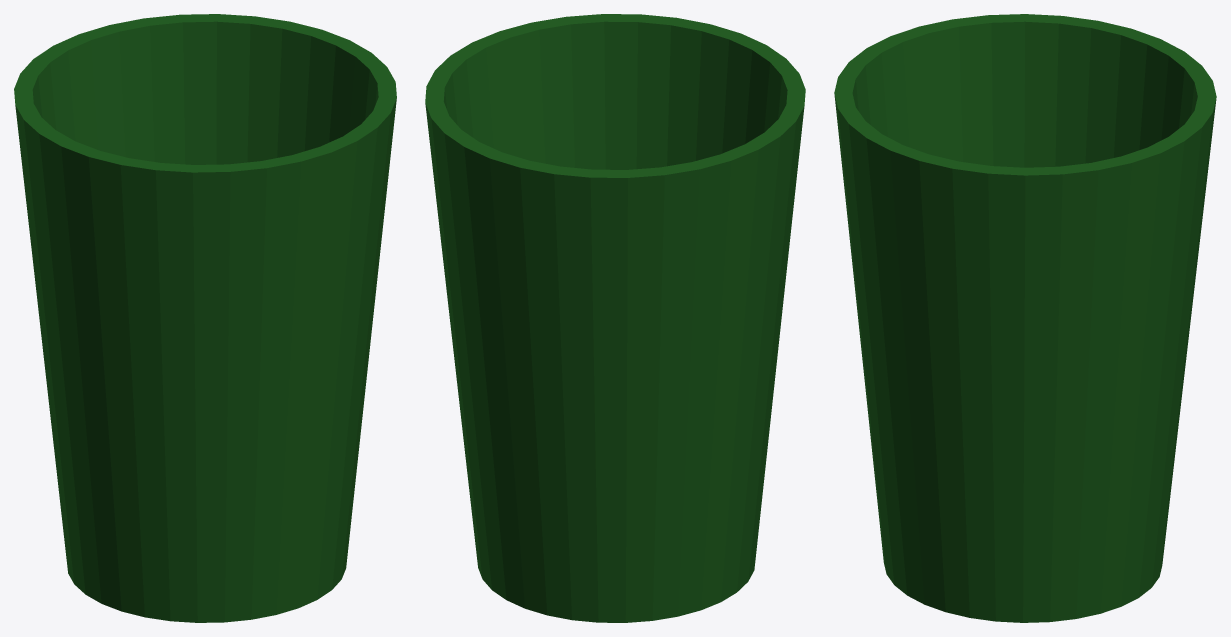
File: lixo.glb
The picture shows the model from 3 angles, left to right: view 1: azimuth 30°, elevation 25°; view 2: azimuth 150°, elevation 25°; view 3: azimuth 270°, elevation 25°; orthographic projection.
Parts seen in each view (by area): view 1: Cone; view 2: Cone; view 3: Cone.
Part boxes in pixels (left/top/right/bottom): Cone: left=14, top=14, right=396, bottom=622; Cone: left=425, top=14, right=805, bottom=622; Cone: left=834, top=14, right=1216, bottom=622.
Bounding box in the file's own units: 2 × 2.73 × 2.
